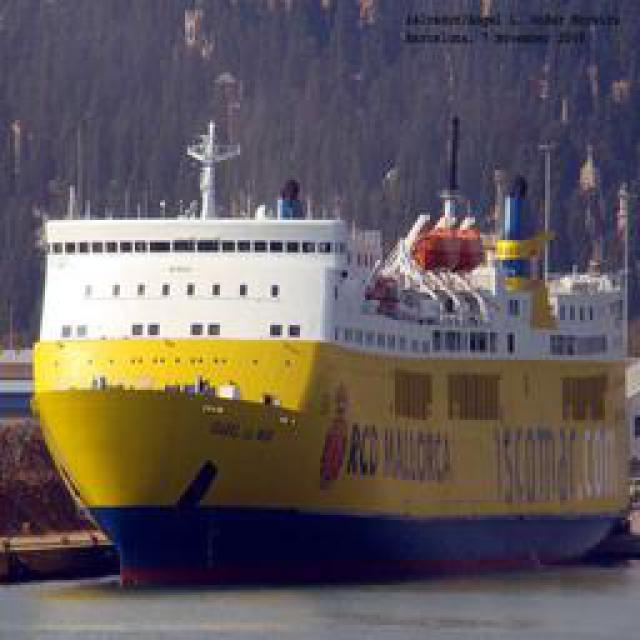Ship: (18, 104, 633, 579)
